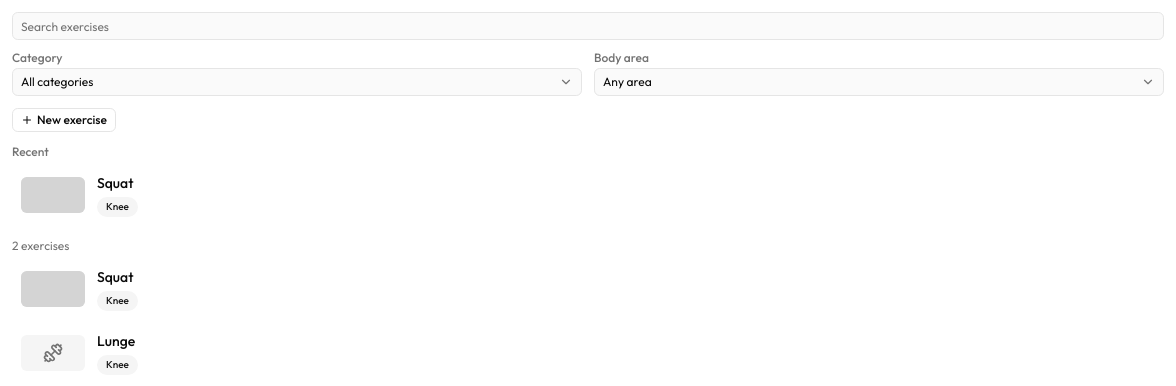
Test: ExercisePicker › searches once after the debounce and hides recent
In the search field labelled "Search exercises": (588, 26) [12,12,1164,40], type "b"
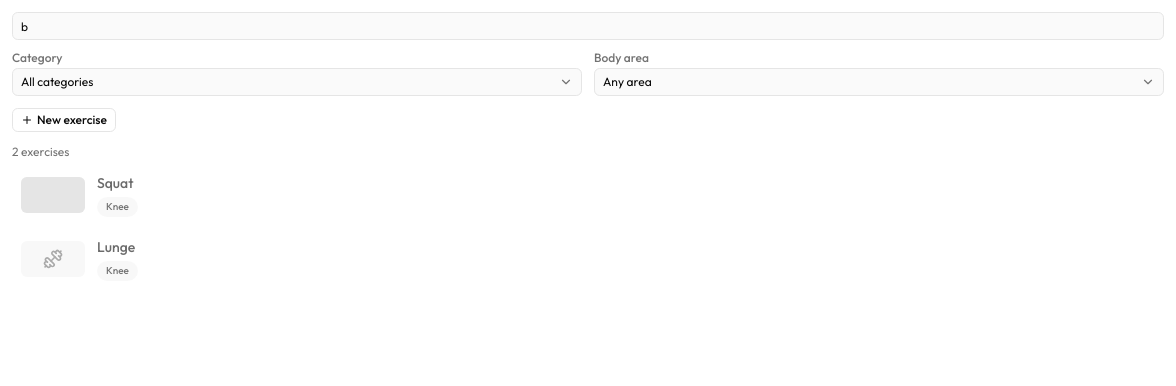
Replace the text in the search field named "Search exercises" with "br": (588, 26) [12,12,1164,40]
Wait 300 ms
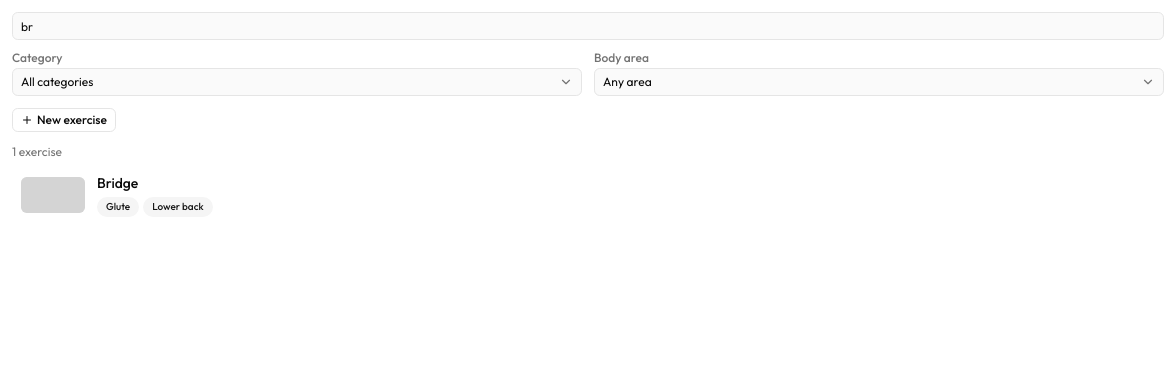
Check: the heading "Recent" is not shown
Check: the button "Bridge Glute Lower back" is shown, box [12,164,1164,226]
Check: the message with test id "picker-count" reads "1 exercise", box [12,144,62,159]
